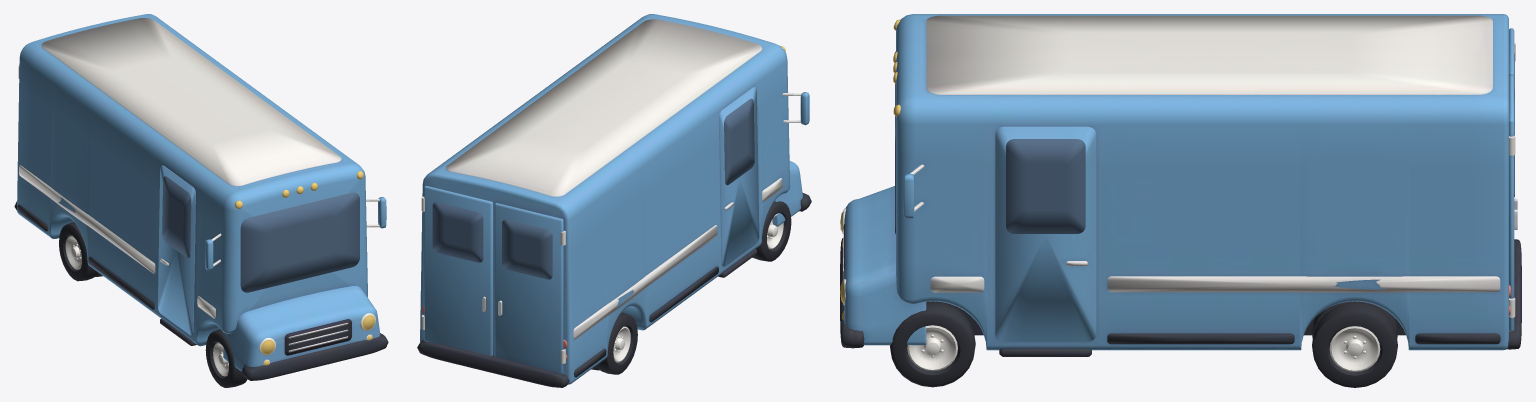
The model's file is delivery-truck.glb.
3 views of the same model, side by side, from view 1: azimuth 30°, elevation 25°; view 2: azimuth 150°, elevation 25°; view 3: azimuth 270°, elevation 25° (orthographic). The views are drawn at different scales.
Parts seen in each view (by area): view 1: delivery-truck_body, delivery-truck_windows, delivery-truck_wheel_fr, delivery-truck_wheel_rr, delivery-truck_headlights; view 2: delivery-truck_body, delivery-truck_rear_leaf, delivery-truck_rear_windows, delivery-truck_windows, delivery-truck_wheel_rr, delivery-truck_wheel_fr; view 3: delivery-truck_body, delivery-truck_windows, delivery-truck_wheel_rl, delivery-truck_wheel_fl, delivery-truck_rear_leaf.
Boxes of the visible parts, left/top/right/bottom form: delivery-truck_body: left=14, top=14, right=388, bottom=380; delivery-truck_windows: left=162, top=176, right=359, bottom=292; delivery-truck_wheel_fr: left=205, top=329, right=247, bottom=387; delivery-truck_wheel_rr: left=59, top=222, right=102, bottom=281; delivery-truck_headlights: left=259, top=313, right=375, bottom=365; delivery-truck_body: left=417, top=14, right=811, bottom=387; delivery-truck_rear_leaf: left=421, top=185, right=492, bottom=355; delivery-truck_rear_windows: left=502, top=219, right=552, bottom=279; delivery-truck_windows: left=724, top=98, right=754, bottom=185; delivery-truck_wheel_rr: left=591, top=312, right=637, bottom=374; delivery-truck_wheel_fr: left=752, top=201, right=791, bottom=261; delivery-truck_body: left=840, top=14, right=1521, bottom=356; delivery-truck_windows: left=895, top=51, right=1085, bottom=234; delivery-truck_wheel_rl: left=1312, top=301, right=1397, bottom=387; delivery-truck_wheel_fl: left=890, top=301, right=975, bottom=387; delivery-truck_rear_leaf: left=1509, top=75, right=1517, bottom=331.
Bounding box in the file's own units: 2.77 × 2.96 × 6.33.
7 materials, 2 textured.
